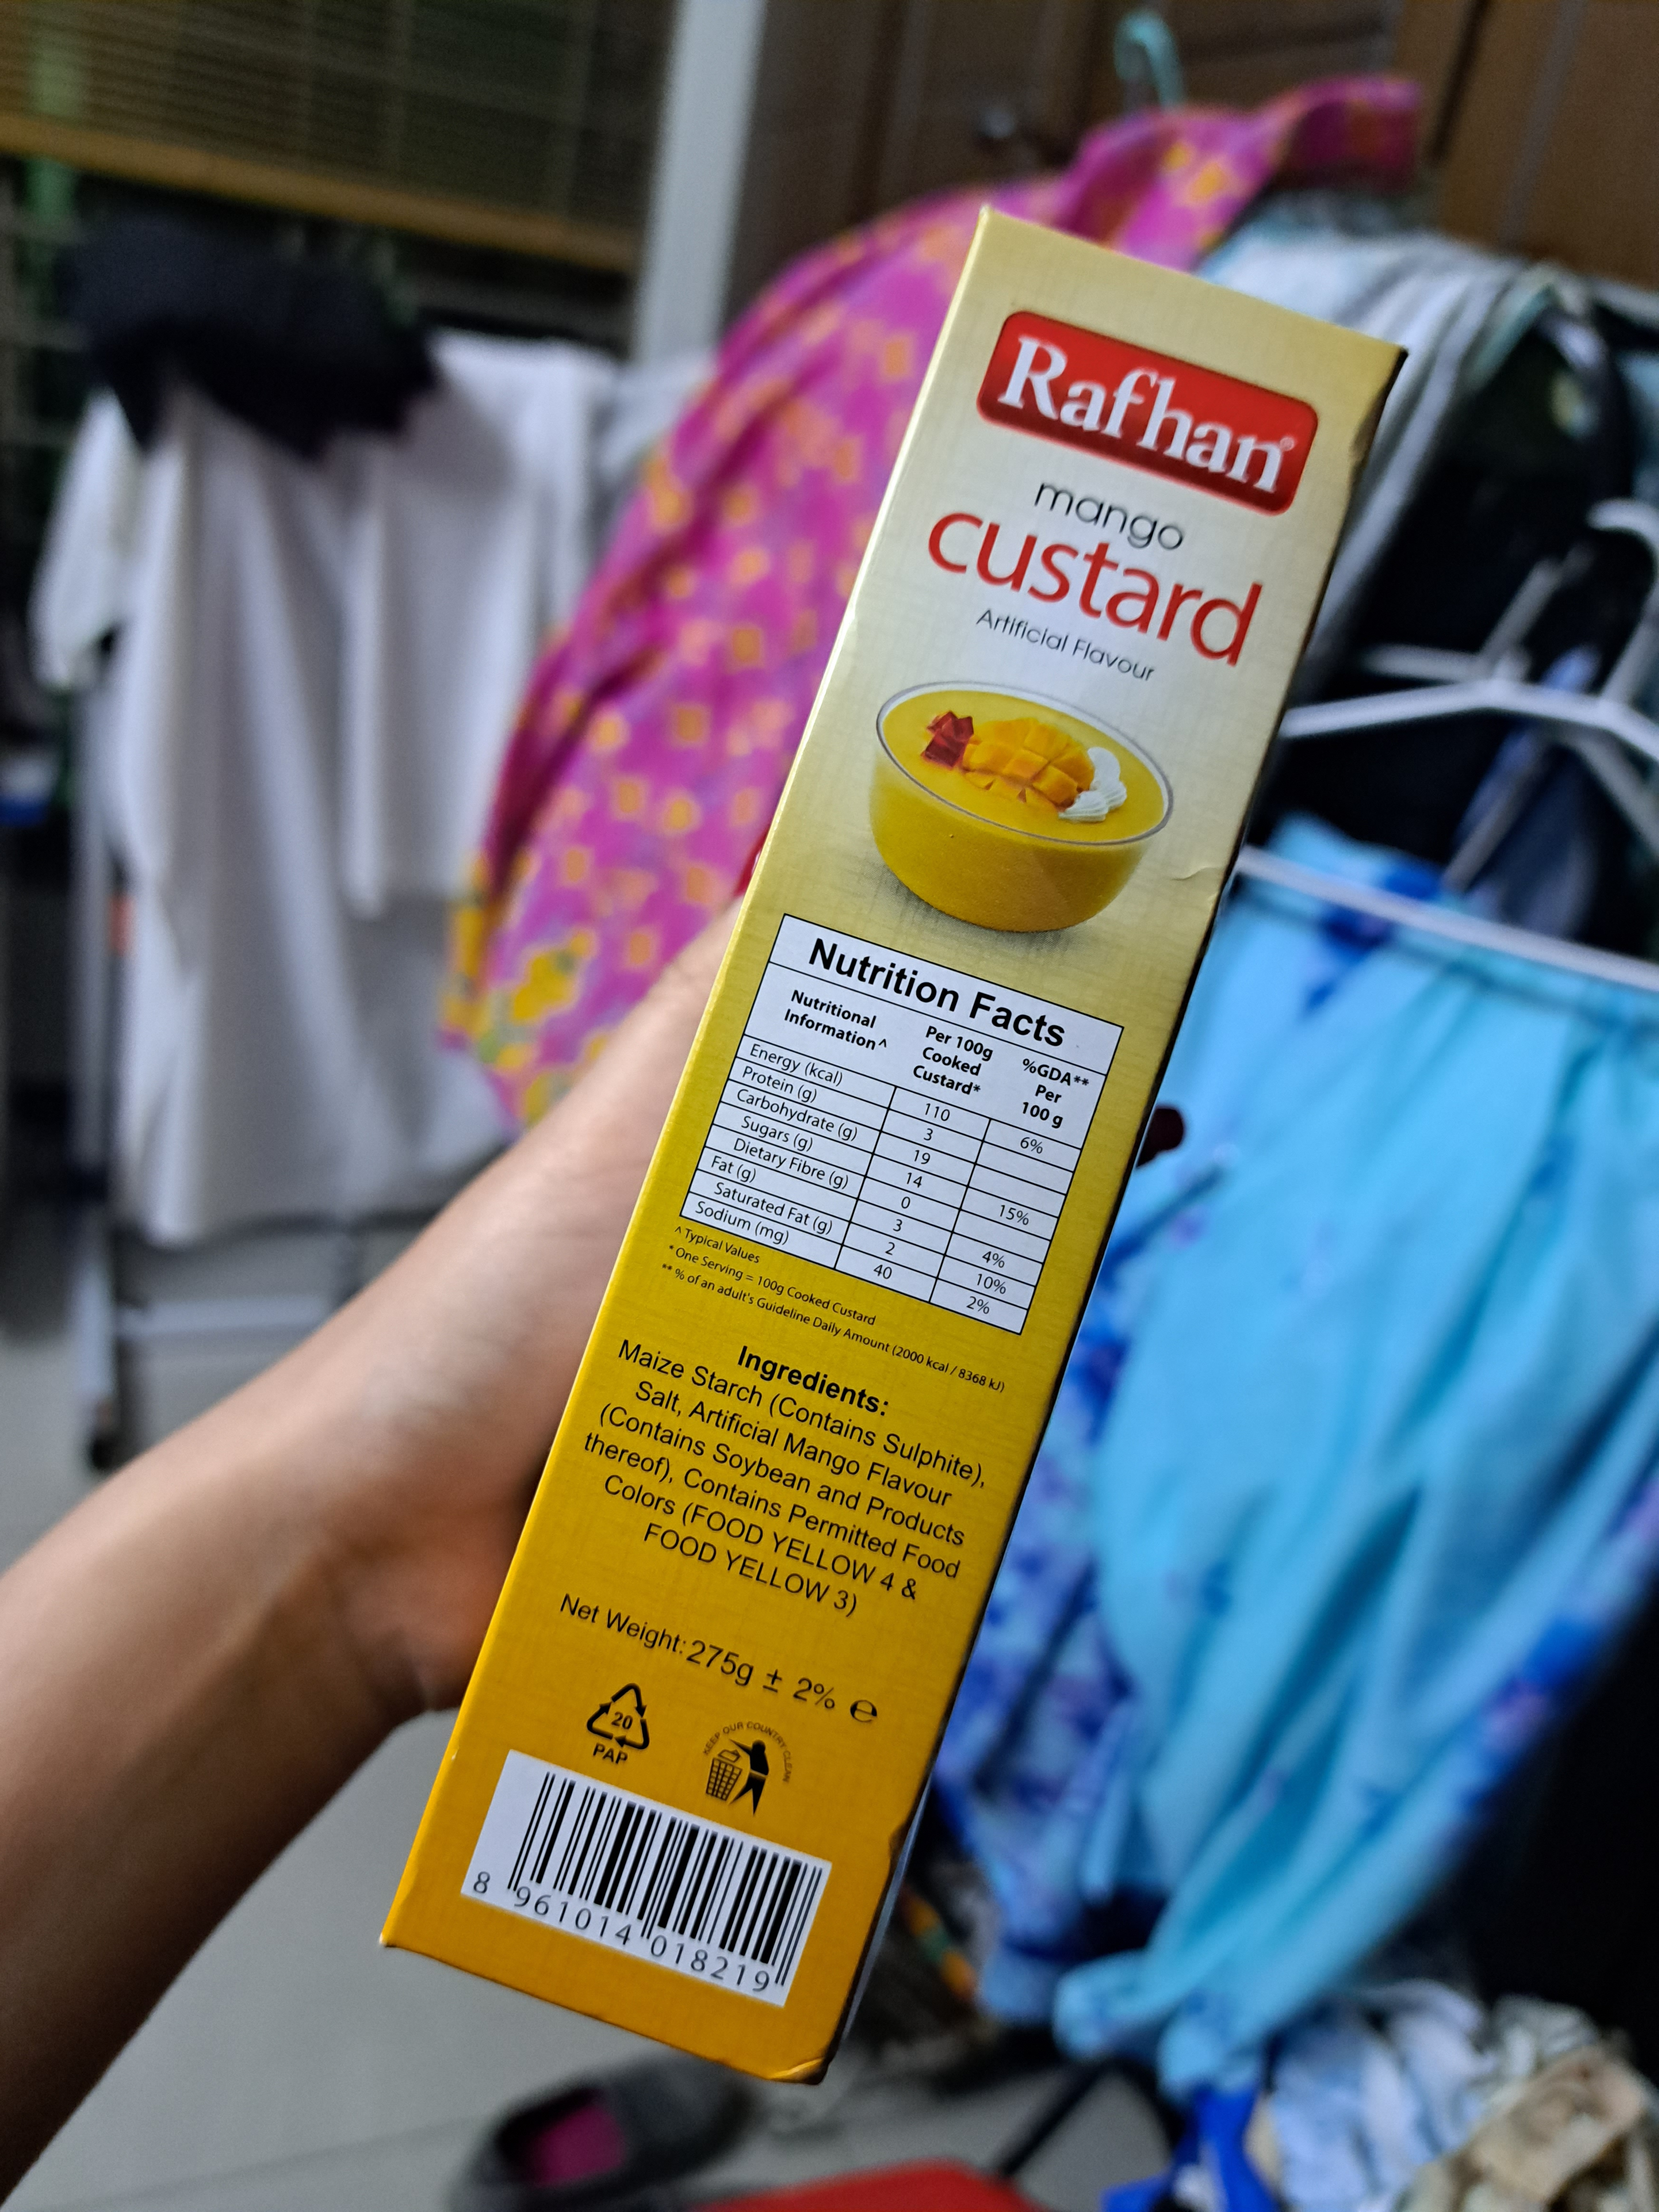table: (676, 914, 1124, 1345)
